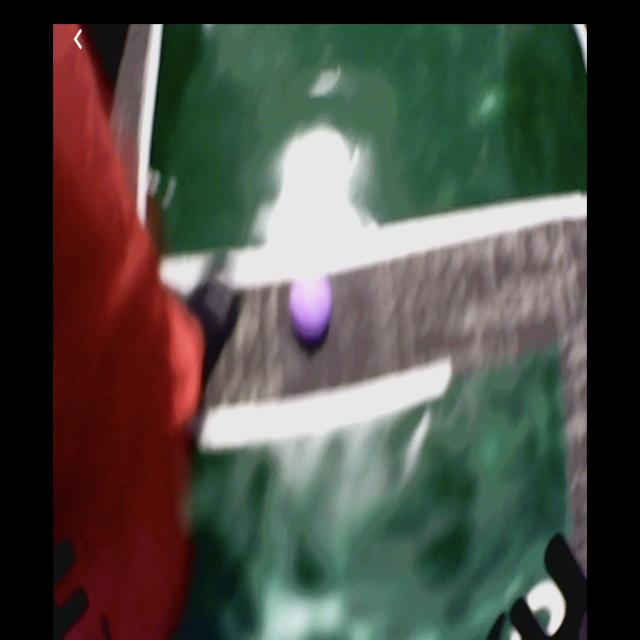ball: (290, 268, 330, 338)
